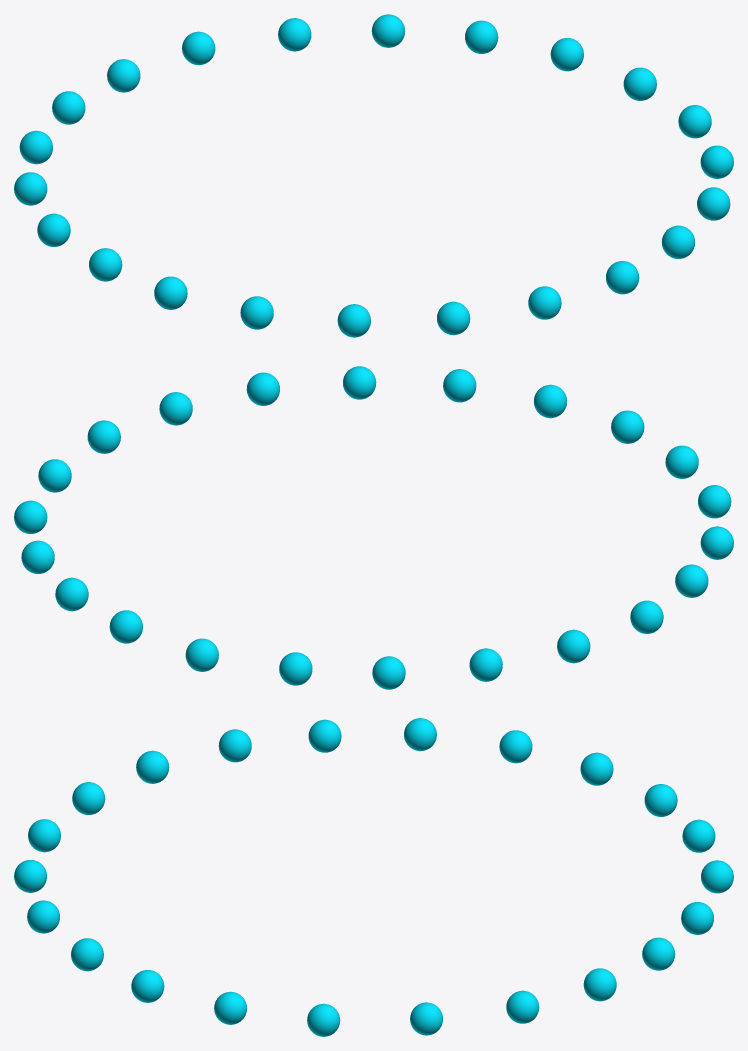
The picture shows the model from 3 angles, top to bottom: view 1: azimuth 30°, elevation 25°; view 2: azimuth 150°, elevation 25°; view 3: azimuth 270°, elevation 25°; orthographic projection.
Visible parts, largest first — view 1: Sphere050; view 2: Sphere050; view 3: Sphere050.
Boxes of the visible parts, x1=… form: Sphere050: x1=14, y1=14, x2=733, y2=337; Sphere050: x1=14, y1=366, x2=733, y2=689; Sphere050: x1=14, y1=718, x2=733, y2=1036.
Bounding box in the file's own units: 176 × 8.22 × 179.
